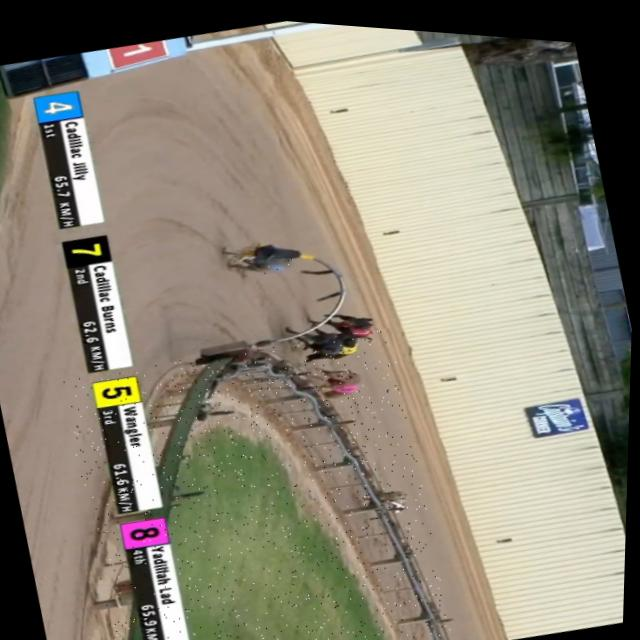dog_eight: (330, 373, 359, 393)
dog_five: (334, 336, 359, 354)
dog_four: (258, 251, 295, 272)
dog_one: (348, 320, 375, 337)
dog_seven: (312, 337, 340, 354)
dog_two: (384, 491, 411, 513)
rail: (130, 346, 456, 640)
